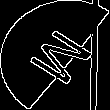M_SE: (16, 21, 94, 89)
